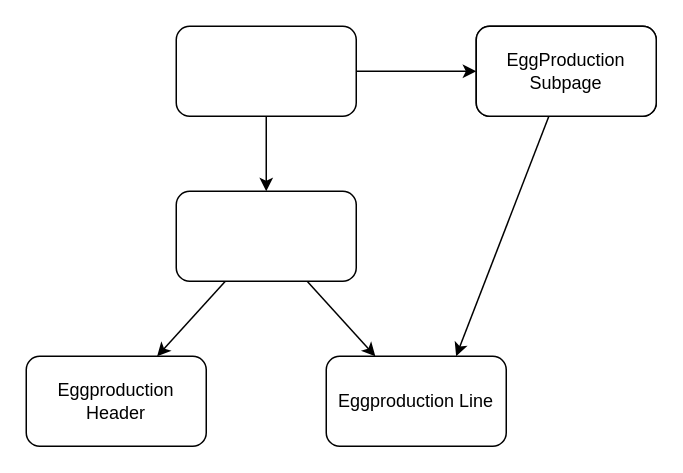
Some shapes in this 683 by 473 pixel diagram are drawn without their labels. The shapes that lost their labels are listed below. From the top down, each one's centre as x and y in pixels, then its label:
the point at 265,70: Eggproduction List page
the point at 265,235: Eggproduction Document
